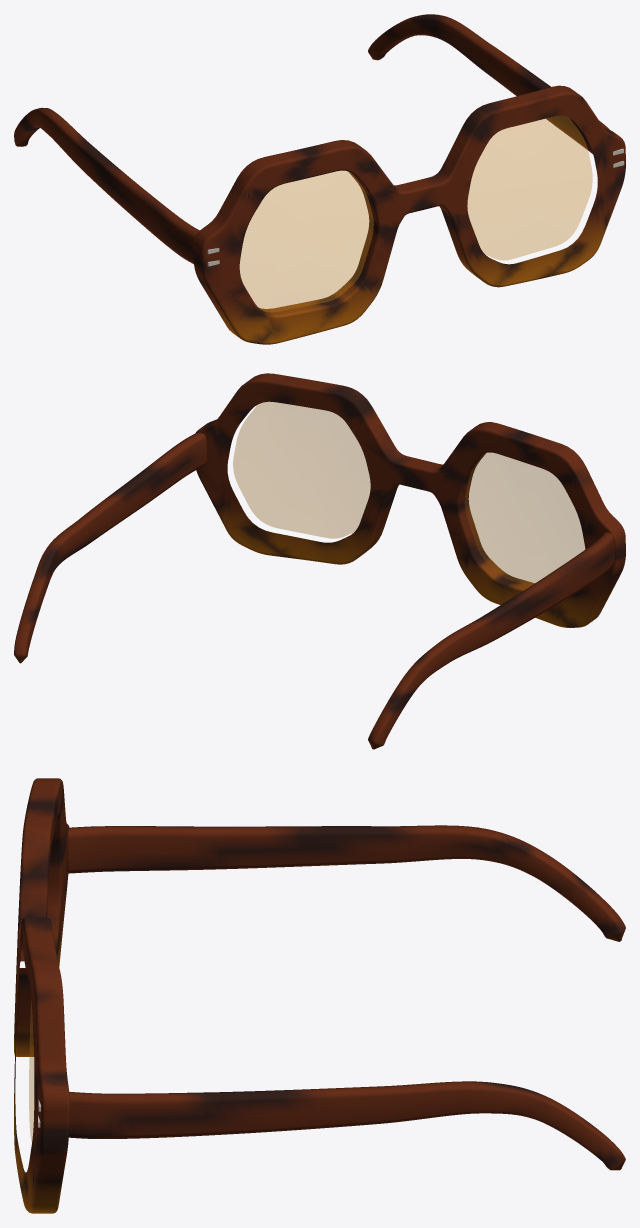
The model's file is 209833317-orange.glb.
3 renders of one model, top to bottom at view 1: azimuth 30°, elevation 25°; view 2: azimuth 150°, elevation 25°; view 3: azimuth 270°, elevation 25°, orthographic. The views are drawn at different scales.
Visible parts, largest first — view 1: frame_front, lens_negative_x, lens_positive_x, temple_negative_x, temple_positive_x; view 2: frame_front, lens_positive_x, lens_negative_x, temple_negative_x, temple_positive_x; view 3: temple_negative_x, temple_positive_x, frame_front.
Boxes of the visible parts, x1=… form: frame_front: x1=193, y1=85, x2=625, y2=344; lens_negative_x: x1=240, y1=171, x2=373, y2=311; lens_positive_x: x1=467, y1=116, x2=592, y2=260; temple_negative_x: x1=14, y1=107, x2=199, y2=263; temple_positive_x: x1=368, y1=14, x2=609, y2=154; frame_front: x1=196, y1=373, x2=625, y2=627; lens_positive_x: x1=233, y1=402, x2=370, y2=538; lens_negative_x: x1=465, y1=453, x2=584, y2=585; temple_negative_x: x1=368, y1=532, x2=614, y2=749; temple_positive_x: x1=14, y1=433, x2=207, y2=663; temple_negative_x: x1=66, y1=825, x2=625, y2=941; temple_positive_x: x1=68, y1=1081, x2=625, y2=1170; frame_front: x1=14, y1=778, x2=69, y2=1213.
Bounding box in the file's own units: 0.1544 × 0.0624 × 0.1451.
